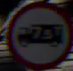Heavy Vehicles: (11, 4, 65, 58)
